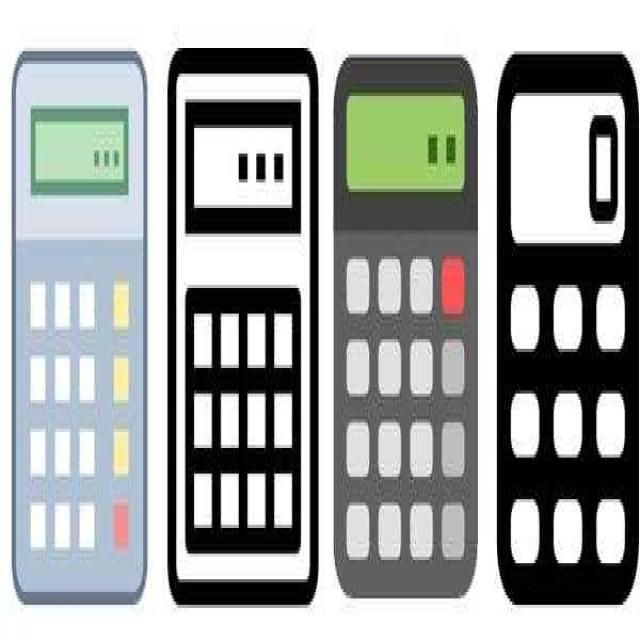Calculator: (496, 48, 639, 605), (333, 54, 478, 596), (11, 48, 147, 605)
